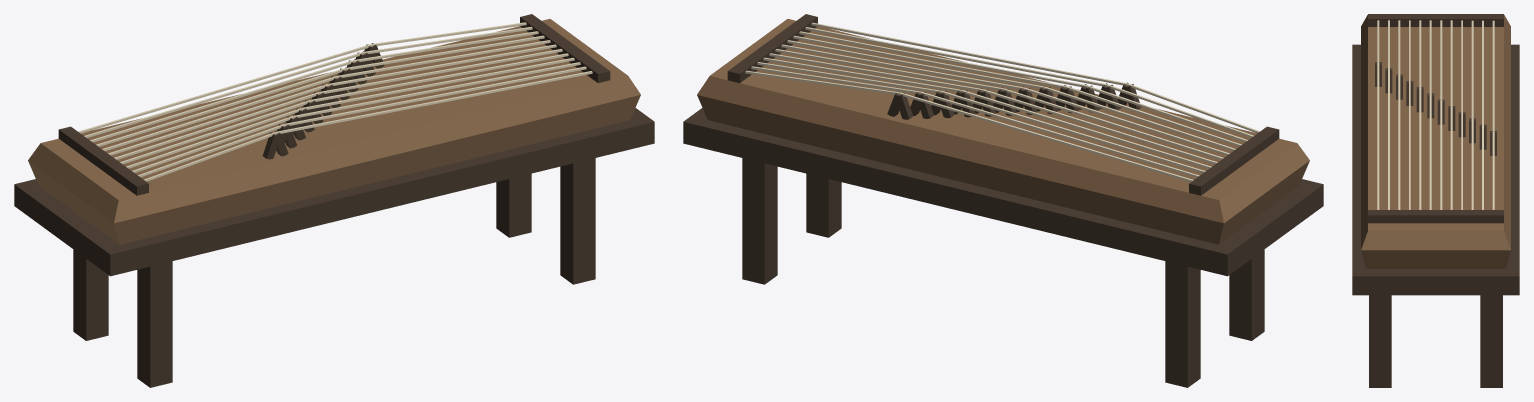
Rendered from 10_Gayageum_Display.fbx.
3 renders of one model, left to right at view 1: azimuth 30°, elevation 25°; view 2: azimuth 150°, elevation 25°; view 3: azimuth 270°, elevation 25°, orthographic. The views are drawn at different scales.
Visible parts, largest first — view 1: Structure.008; view 2: Structure.008; view 3: Structure.008.
Part boxes in pixels (left/top/right/bottom): Structure.008: left=14, top=14, right=654, bottom=387; Structure.008: left=683, top=14, right=1323, bottom=387; Structure.008: left=1352, top=14, right=1519, bottom=387.
Bounding box in the file's own units: 314 × 121 × 96.
